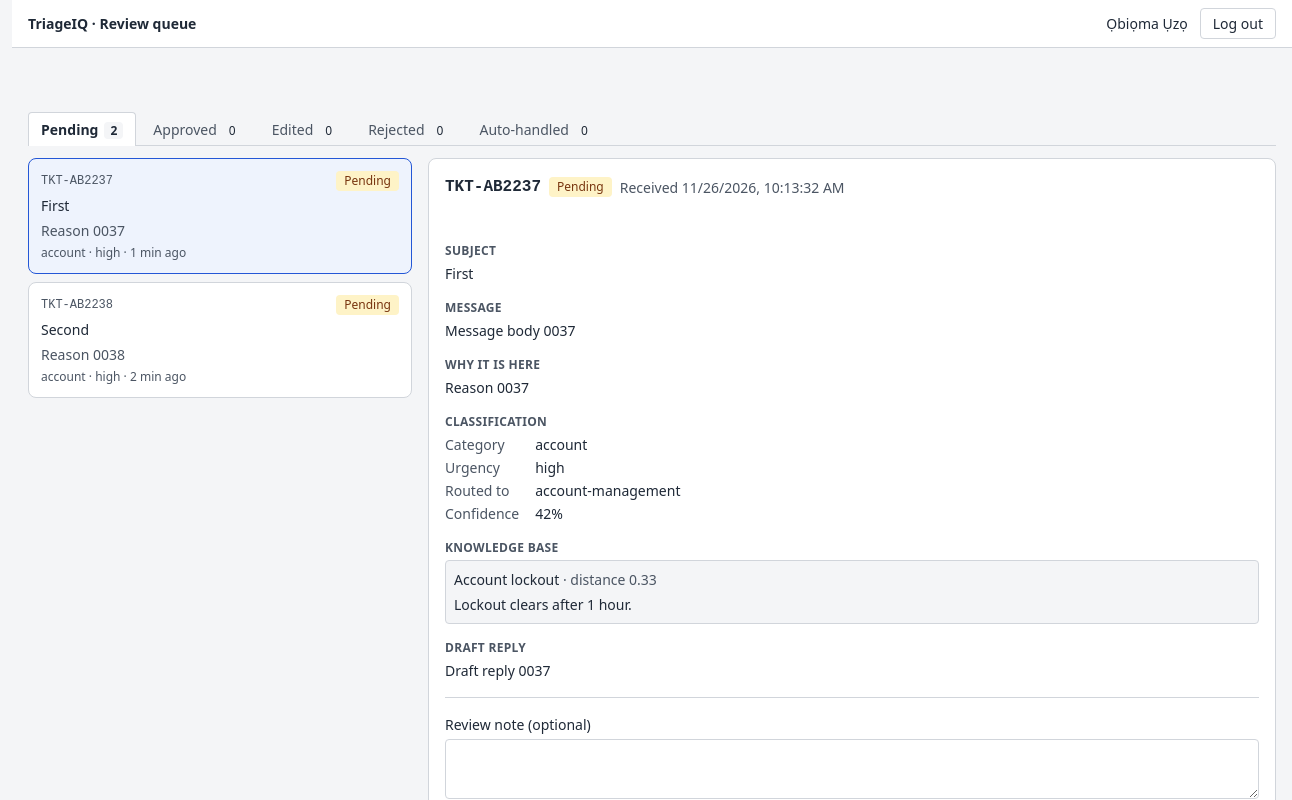
Scenario: reviewing › Approve sends action=approve (and the note, if any), then confirms and opens the next pending ticket
In the text box labelled "Review note (optional)": (852, 769) [445,739,1259,799], type "  looks fine "
(page scrolled)
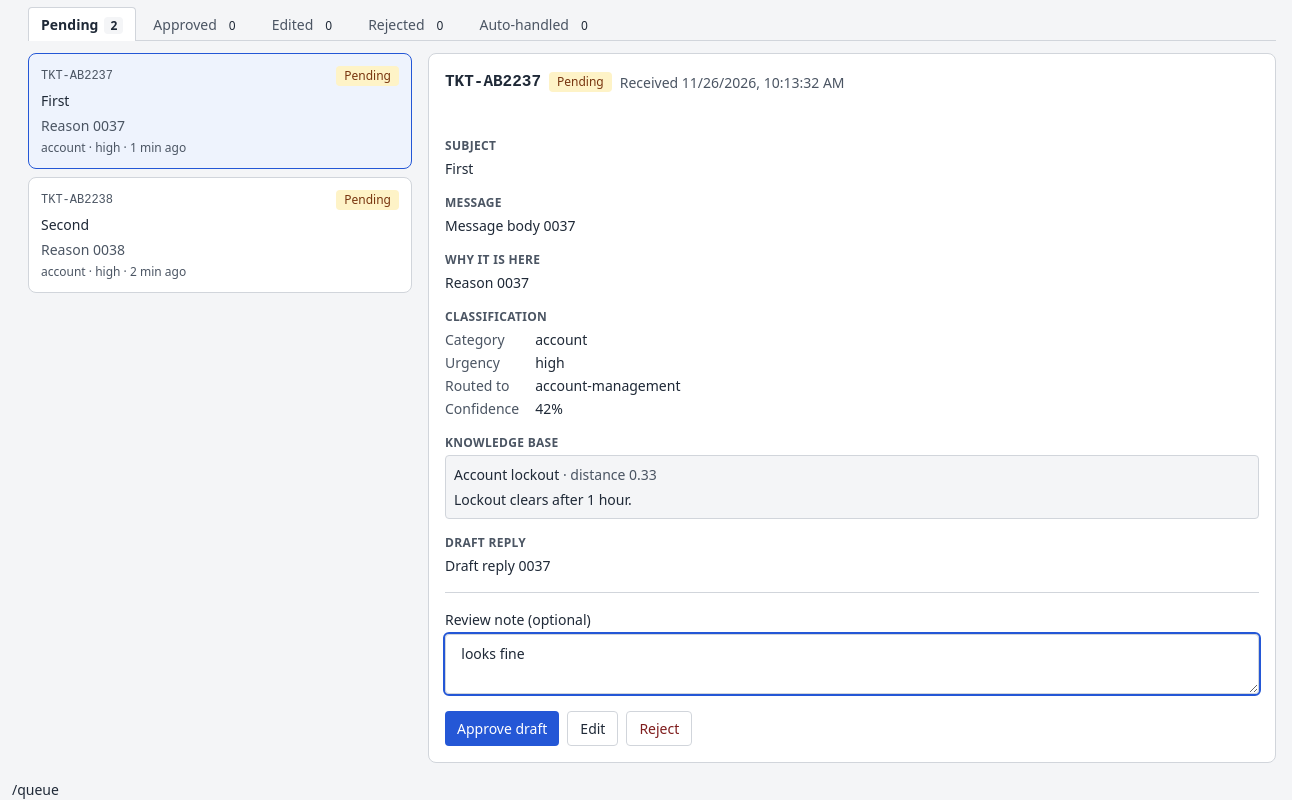
Click the button "Approve draft": (502, 728) [445,711,559,746]
(page scrolled)
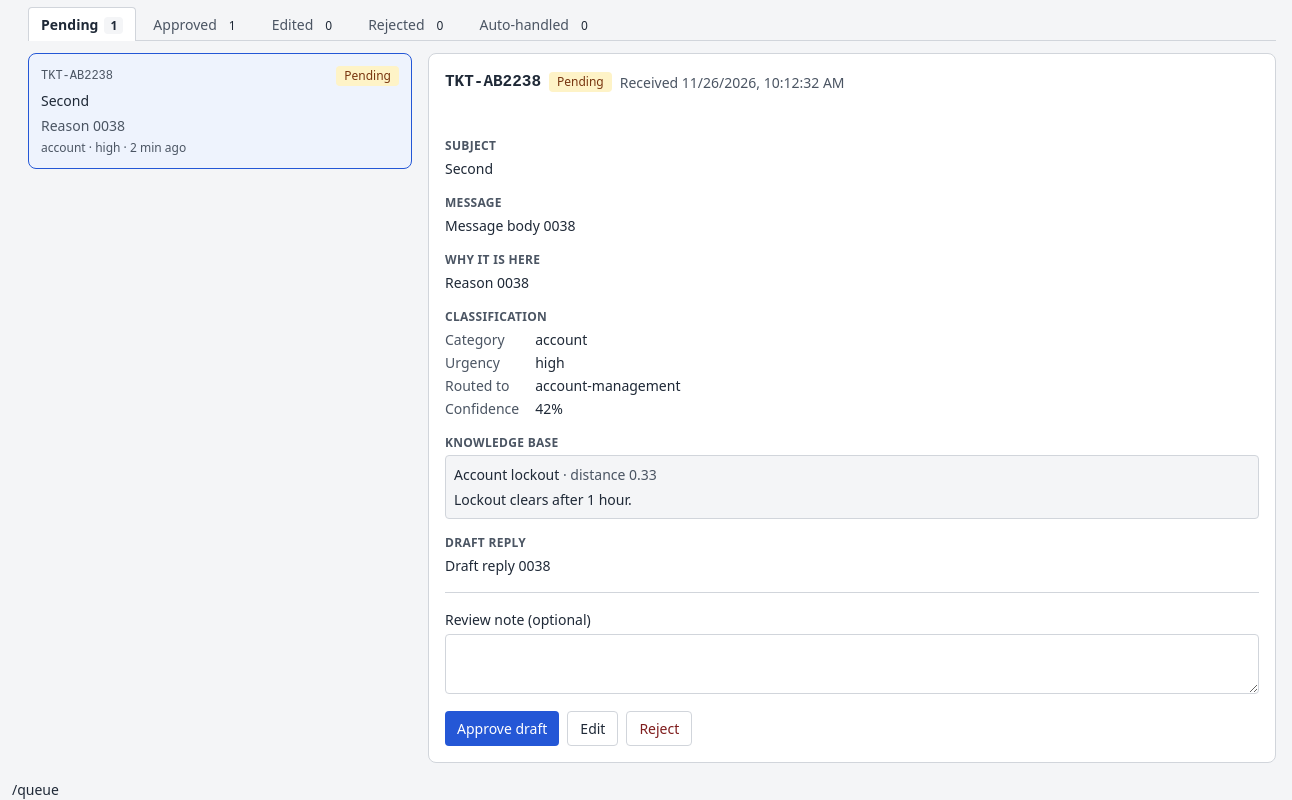
Expected: the tab "Pending1" is shown, [28,7,136,41]
Expected: the tab "Approved1" is shown, [140,7,255,41]
Expected: the button "First" is gone
